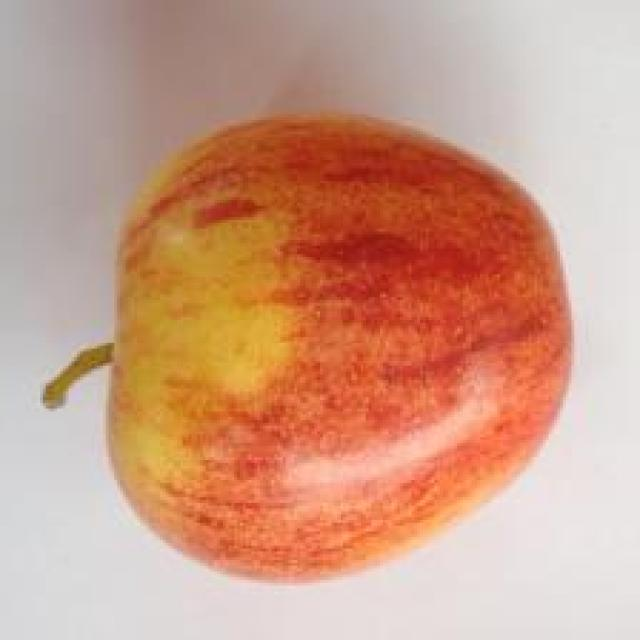apple: (6, 26, 640, 618)
